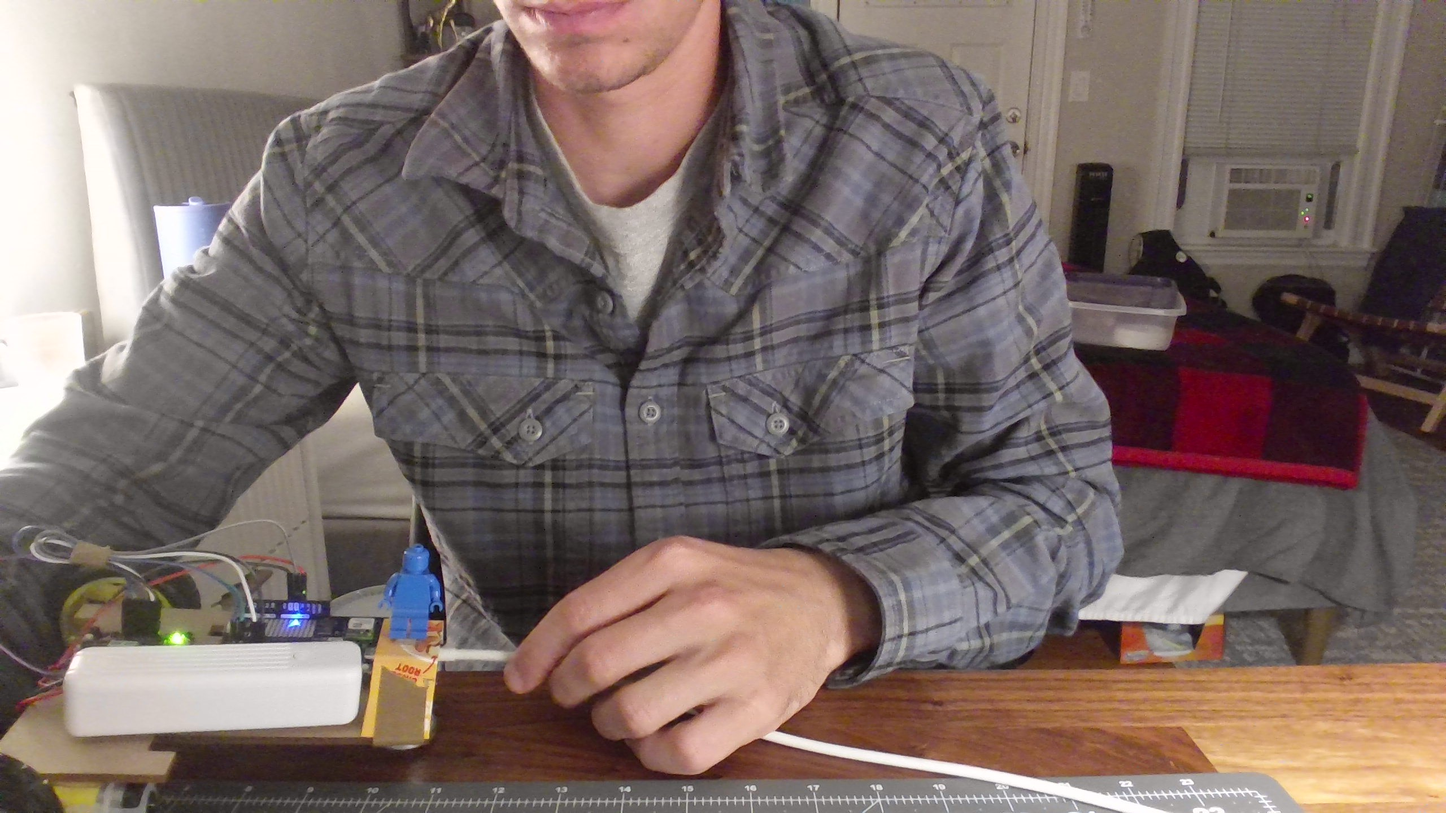Training-dataset-2: (367, 527, 461, 663)
